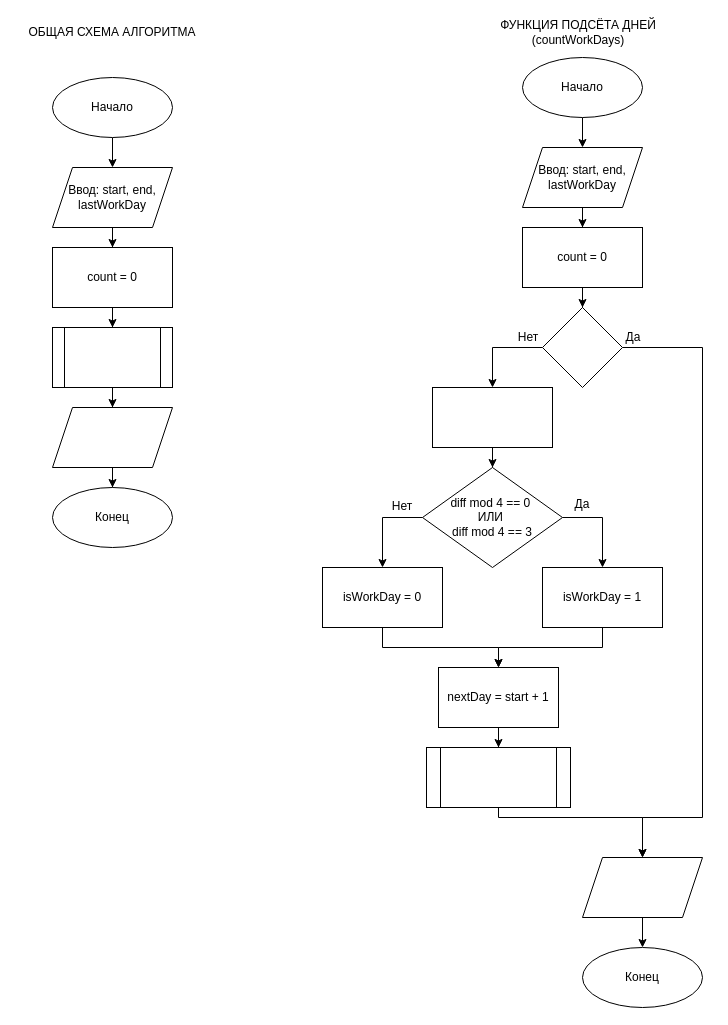
The diagram is 728 pixels wide and 1025 high, and some of its shapes have lost their labels. The box of each missing label's shape, as (x1, y1, x2, y2) in pixels:
count = countWorkDays (start, end, lastWorkDay): (52, 326, 172, 388)
count = isWorkDay + countWorkDays (nextDay, end, lastWorkDay): (426, 746, 570, 808)
diff = start -lastWorkDay: (432, 386, 552, 448)
start > end: (542, 306, 622, 388)
Вывод: count: (52, 406, 172, 468)
Выдов: count: (582, 856, 702, 918)
